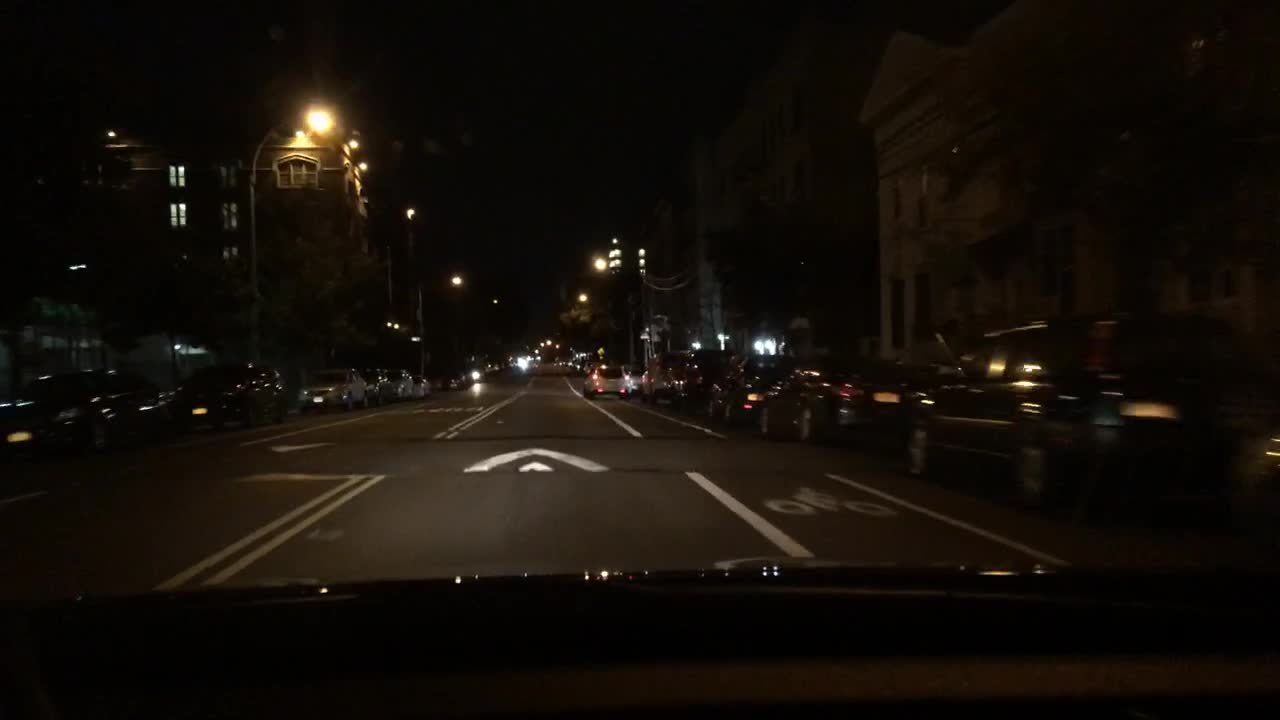car: (888, 311, 1278, 512), (0, 361, 154, 463), (756, 353, 934, 440), (150, 355, 289, 438), (705, 353, 783, 423), (682, 347, 739, 410), (299, 367, 367, 415), (641, 351, 690, 402), (581, 360, 630, 398), (360, 370, 390, 403), (384, 367, 414, 397), (623, 362, 647, 390), (413, 374, 434, 397), (443, 374, 473, 389), (467, 362, 485, 379), (483, 361, 500, 373), (584, 363, 593, 377)
traffic sign: (596, 344, 606, 357)
